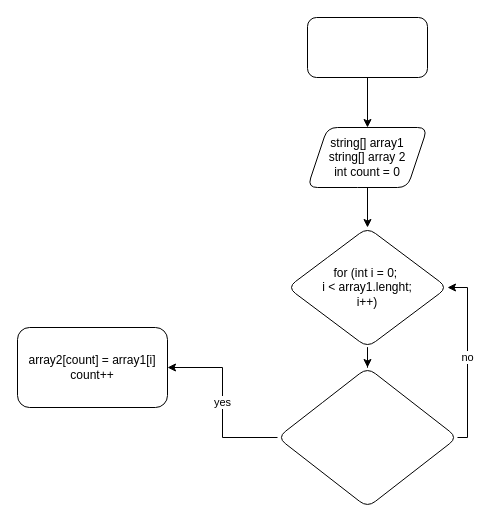
Some shapes in this 493 by 525 pixel diagram are drawn without their labels. Here are the shapes that lost their labels. From the top down, the centre of each, then its label:
At (367,47): "SecondArrayWintIF".
At (367,437): "if(array1[i].lenght <= 3)".
